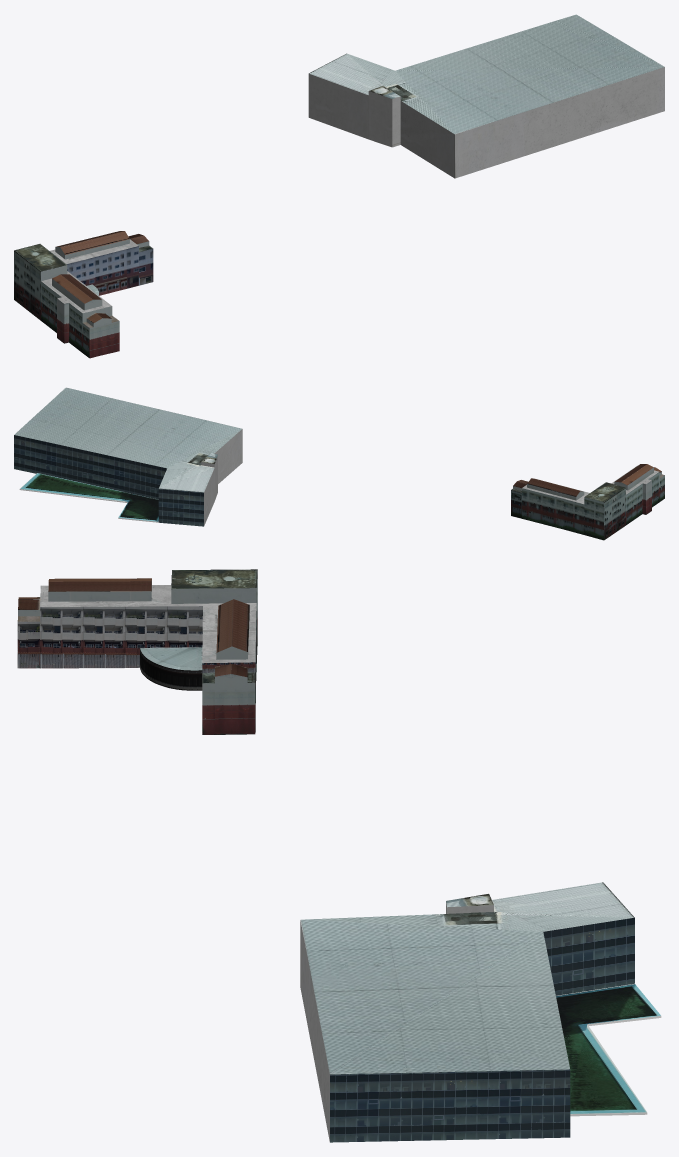
The model's file is Box_multiple.glb.
3 views of the same model, one above another, from view 1: azimuth 30°, elevation 25°; view 2: azimuth 150°, elevation 25°; view 3: azimuth 270°, elevation 25° (orthographic). The views are drawn at different scales.
Parts seen in each view (by area): view 1: Component, Vertex View.kmz; view 2: Component, Vertex View.kmz; view 3: Component, Vertex View.kmz.
Part boxes in pixels (x1,y1,x2,y2): Component: [308, 14, 664, 178]; Vertex View.kmz: [14, 231, 153, 358]; Component: [14, 387, 242, 526]; Vertex View.kmz: [511, 464, 664, 540]; Component: [300, 882, 661, 1142]; Vertex View.kmz: [17, 569, 257, 734].
Bounding box in the file's own units: 256 × 19.01 × 136.
337 materials, 197 textured.
